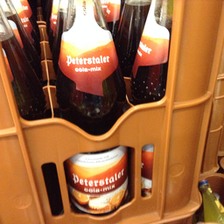soda: (54, 1, 128, 218), (130, 1, 168, 198)
